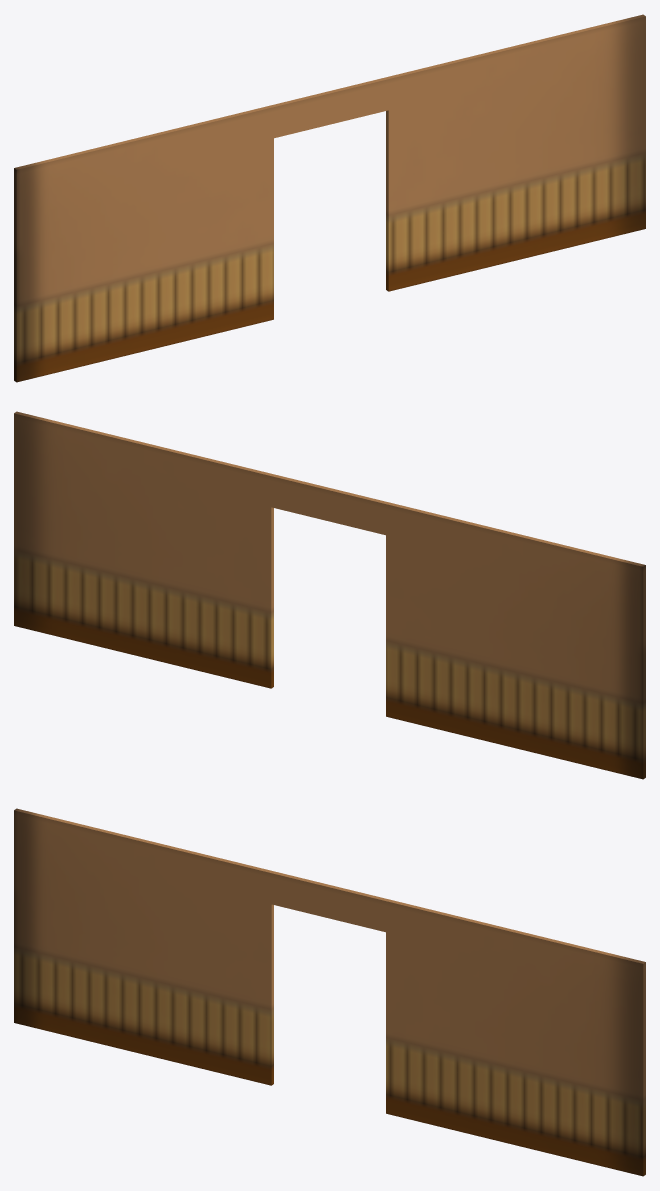
The model's file is Wall_Door_01.FBX.
The picture shows the model from 3 angles, top to bottom: view 1: azimuth 30°, elevation 25°; view 2: azimuth 150°, elevation 25°; view 3: azimuth 330°, elevation 25°; orthographic projection.
Parts seen in each view (by area): view 1: Wall_Door_01; view 2: Wall_Door_01; view 3: Wall_Door_01.
Boxes of the visible parts, x1,y1,x2,y2 form: Wall_Door_01: (14,14,645,382); Wall_Door_01: (14,411,645,779); Wall_Door_01: (14,808,645,1176).
Bounding box in the file's own units: 283 × 91.45 × 2.
